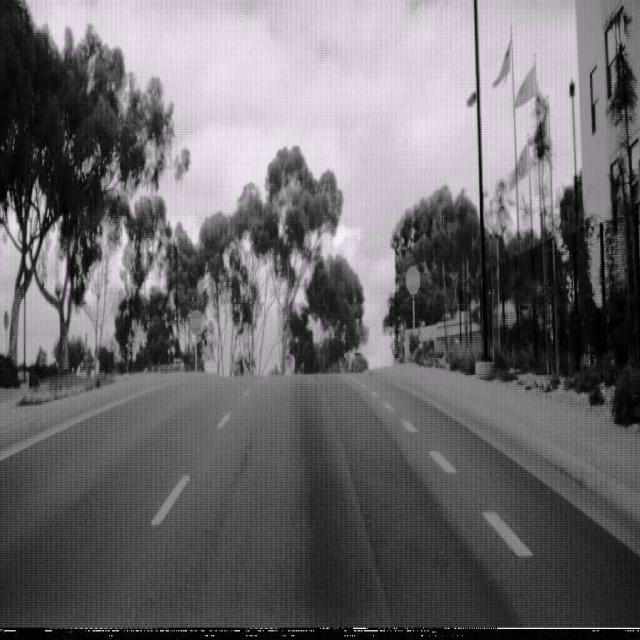stop: (405, 265, 420, 293), (189, 309, 201, 335)
